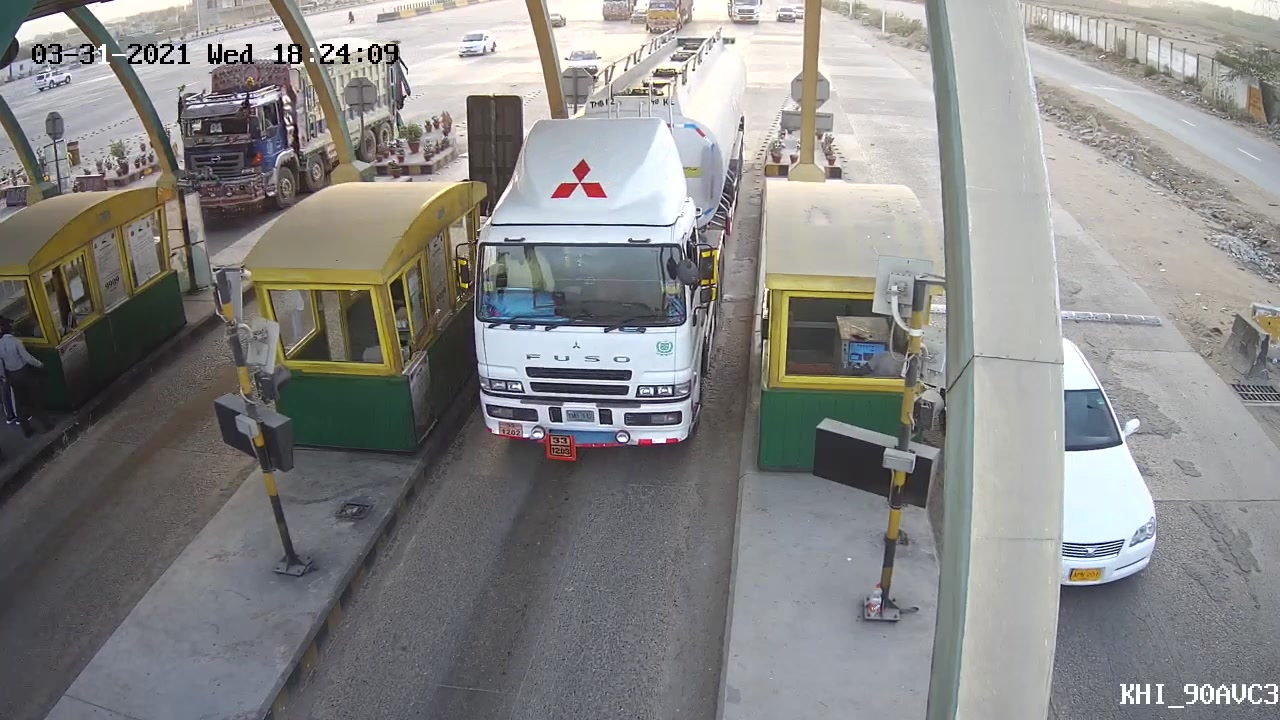F6: (458, 25, 763, 468)
